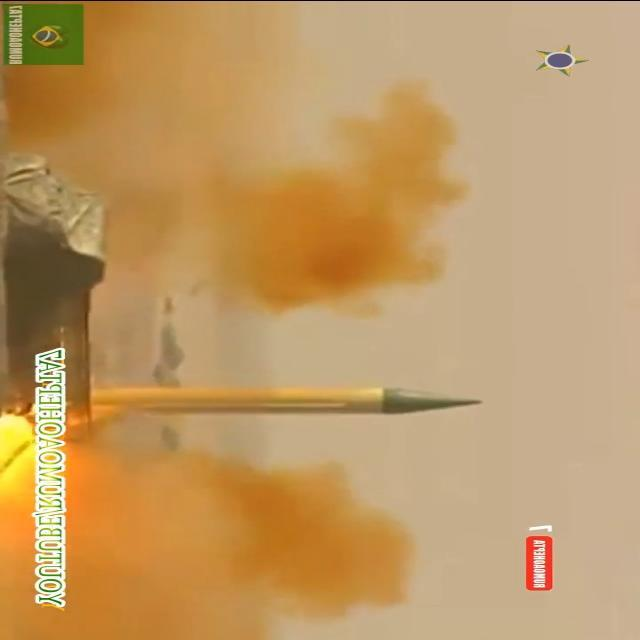missile: (84, 378, 492, 419)
